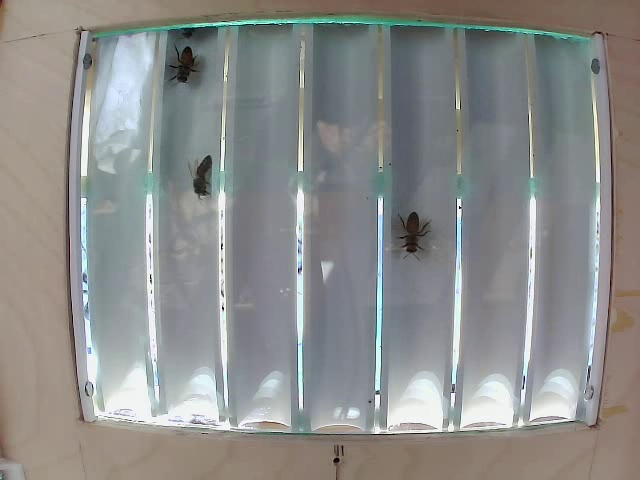bee: (161, 46, 215, 91), (385, 204, 428, 257), (187, 152, 223, 206)
